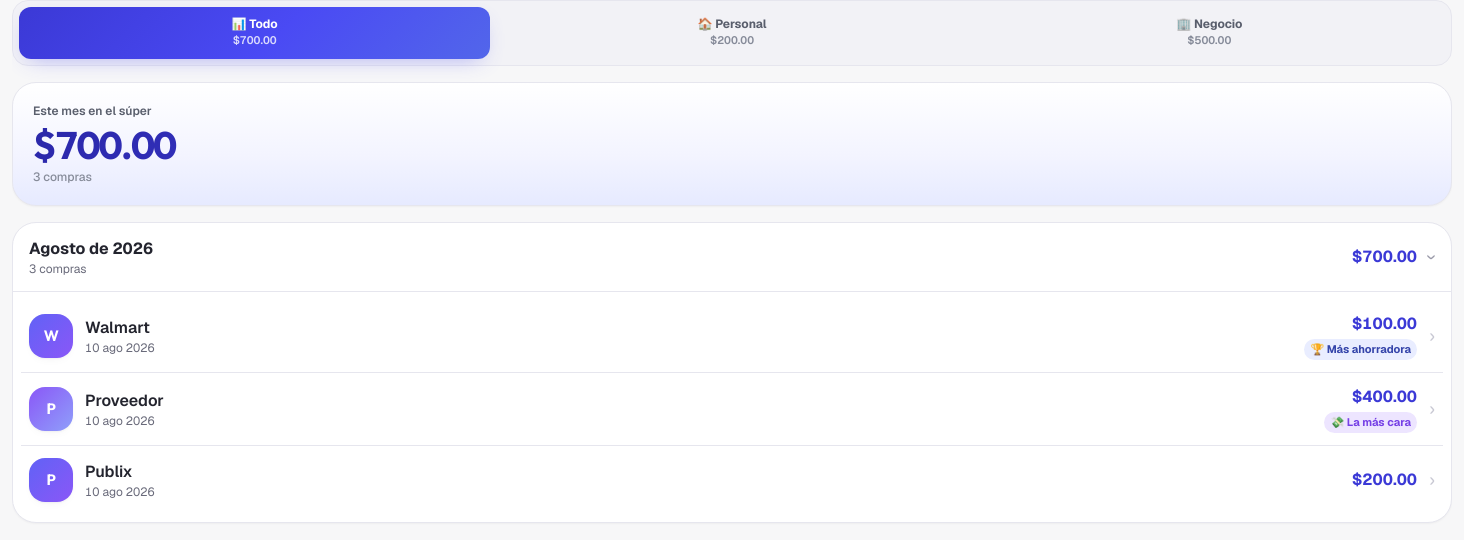
Test case: TripsScopedList — filtro Personal / Negocio › en «Personal» las CIFRAS de arriba también cambian
Click the button "🏠 Personal $200.00": x=732, y=33 [496,7,968,58]
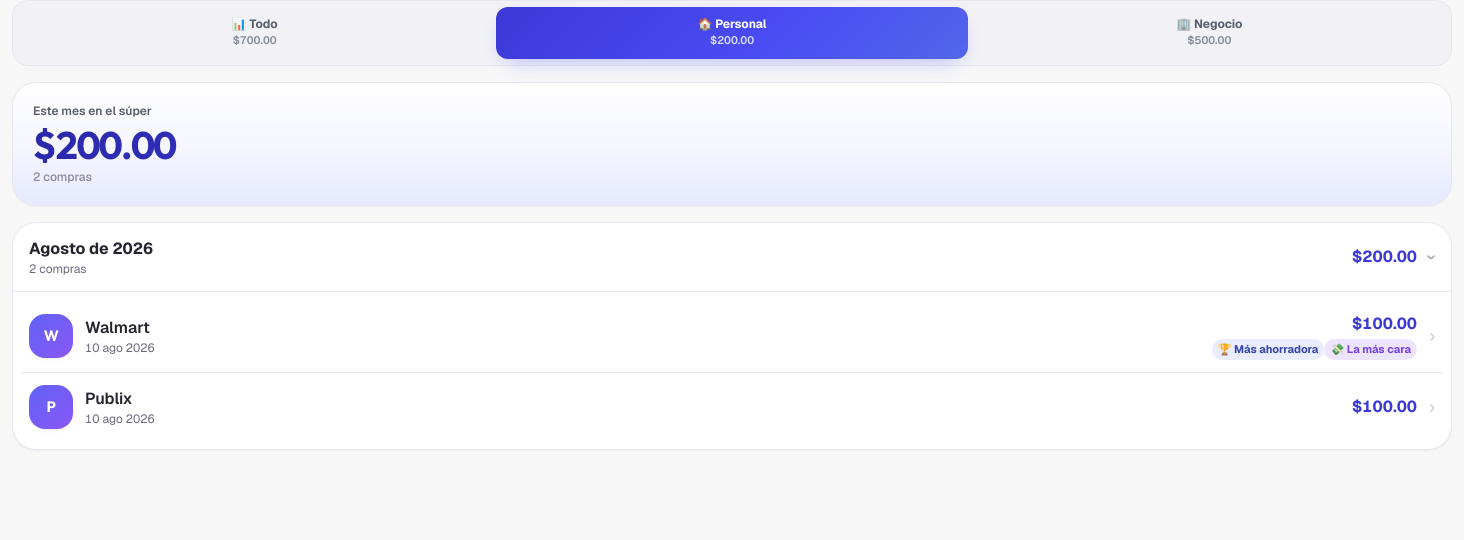
Expected: the text "Walmart" is shown, [85,317,150,338]
Expected: the element "Este mes en el súper" shows "200", [33,120,176,168]
Expected: the link "Proveedor" is gone
